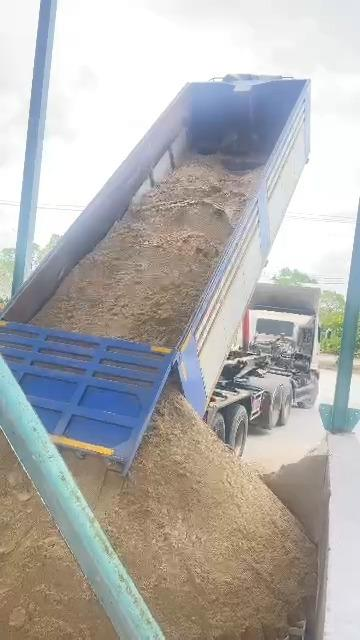sand: (66, 387, 315, 639), (67, 388, 315, 639), (98, 390, 315, 638), (33, 157, 260, 346), (34, 158, 257, 345), (0, 432, 115, 639), (0, 441, 114, 639), (1, 442, 115, 639), (263, 441, 328, 543)
